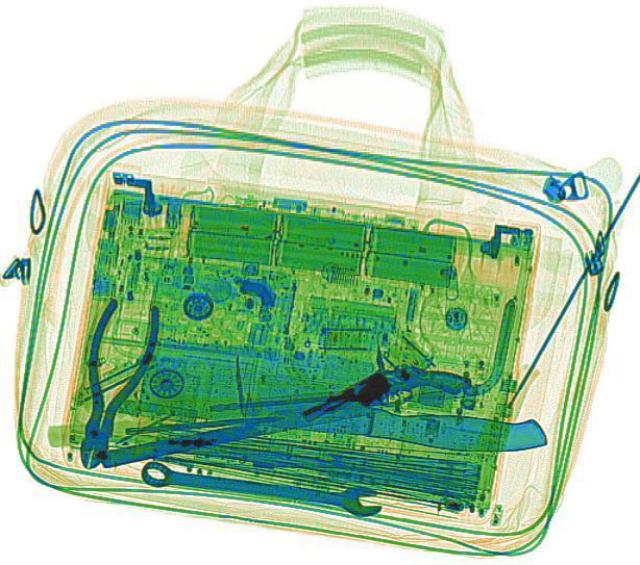Gun: (294, 337, 474, 457)
Knife: (134, 330, 556, 461)
Pliers: (54, 293, 166, 475)
Wrench: (134, 453, 386, 517)
